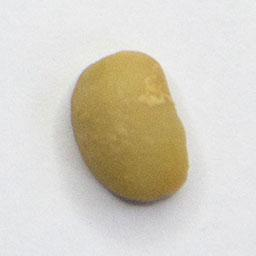defect: (66, 47, 193, 206)
